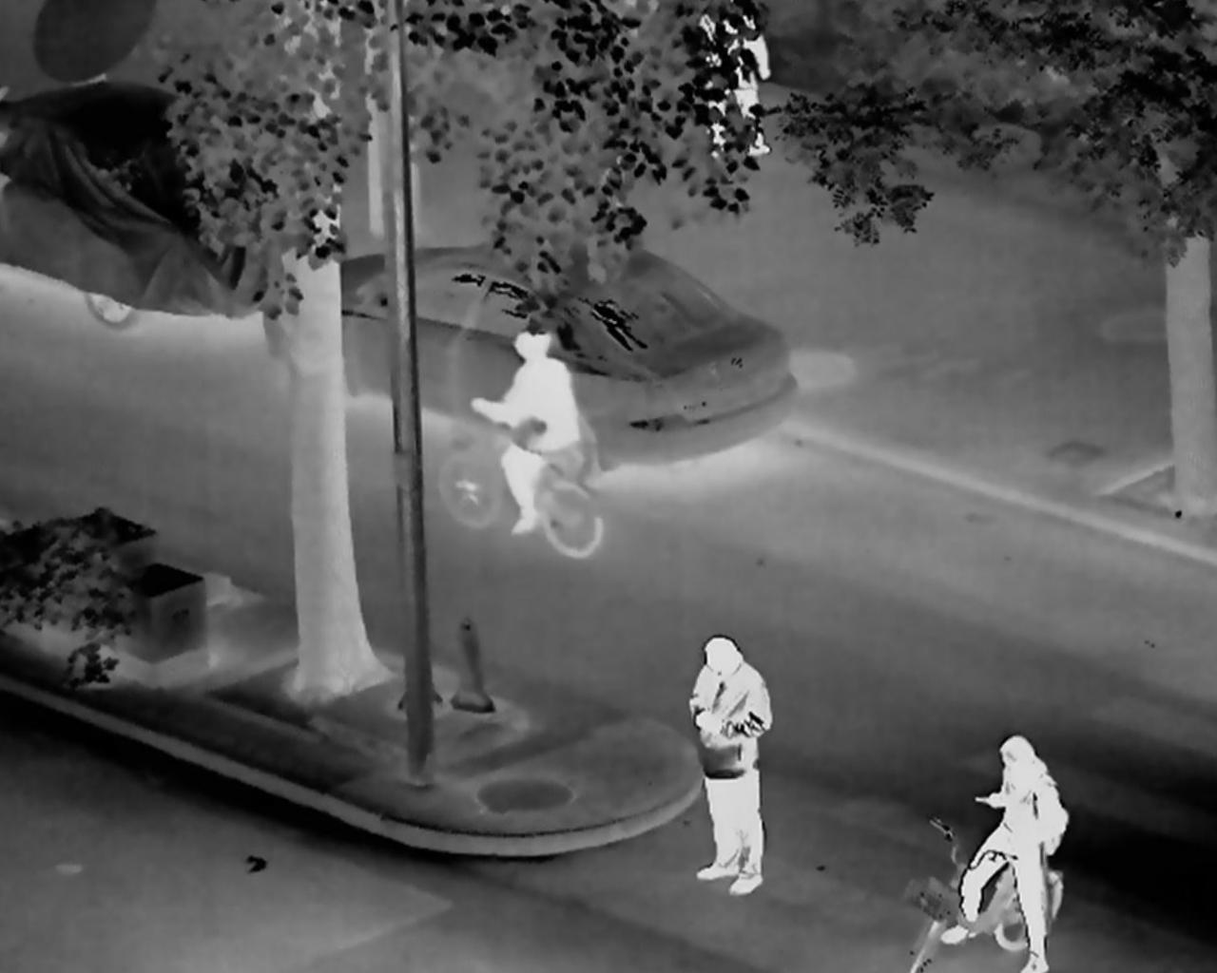person: (942, 733, 1063, 973), (686, 635, 772, 896), (474, 333, 579, 532), (692, 4, 772, 161)
